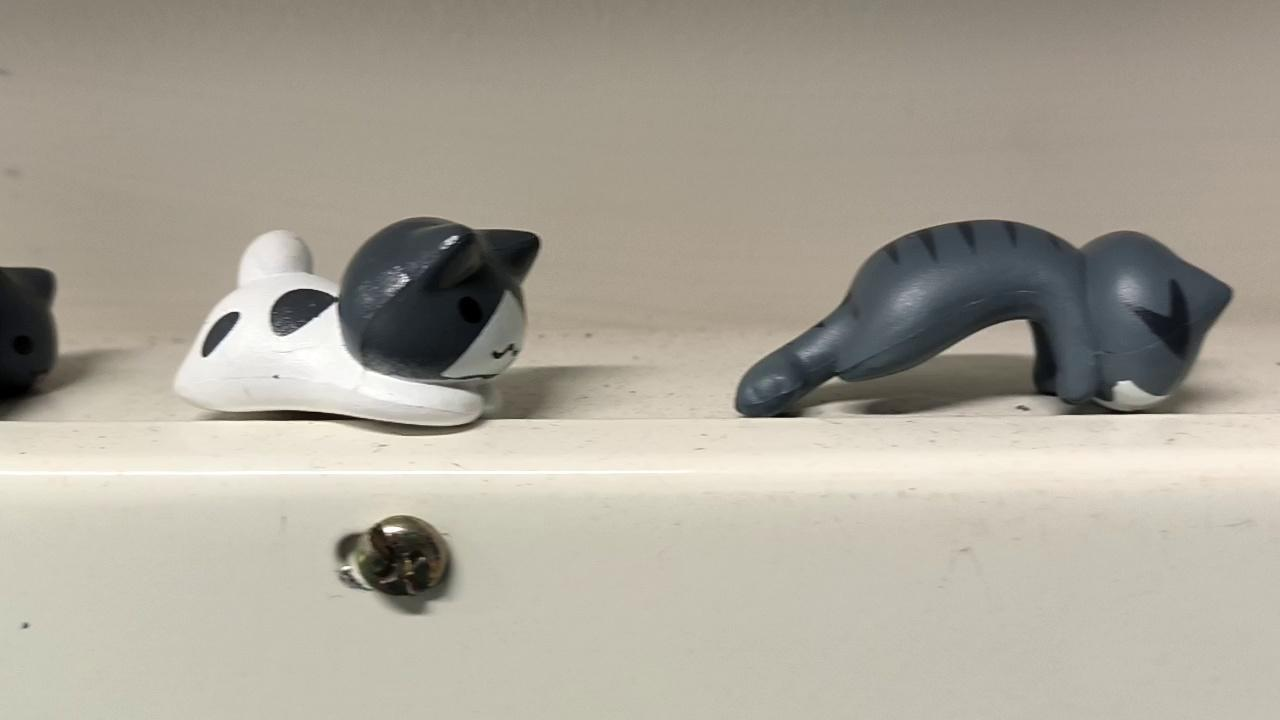pet: (731, 214, 1233, 425), (164, 204, 550, 434)
